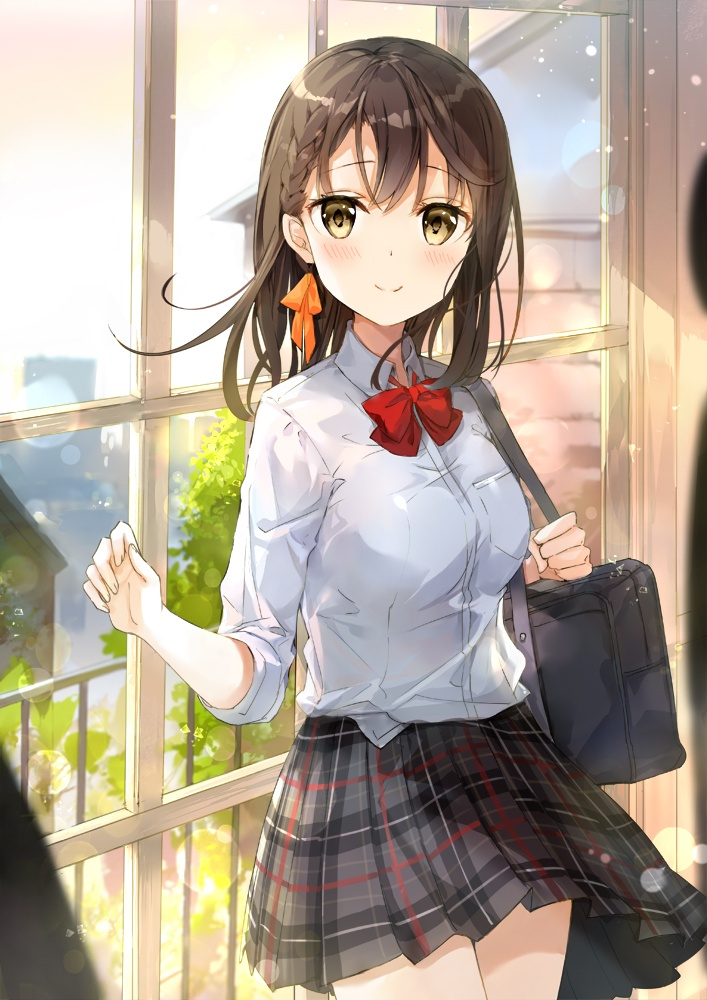纸片人正脸: (253, 27, 524, 332)
